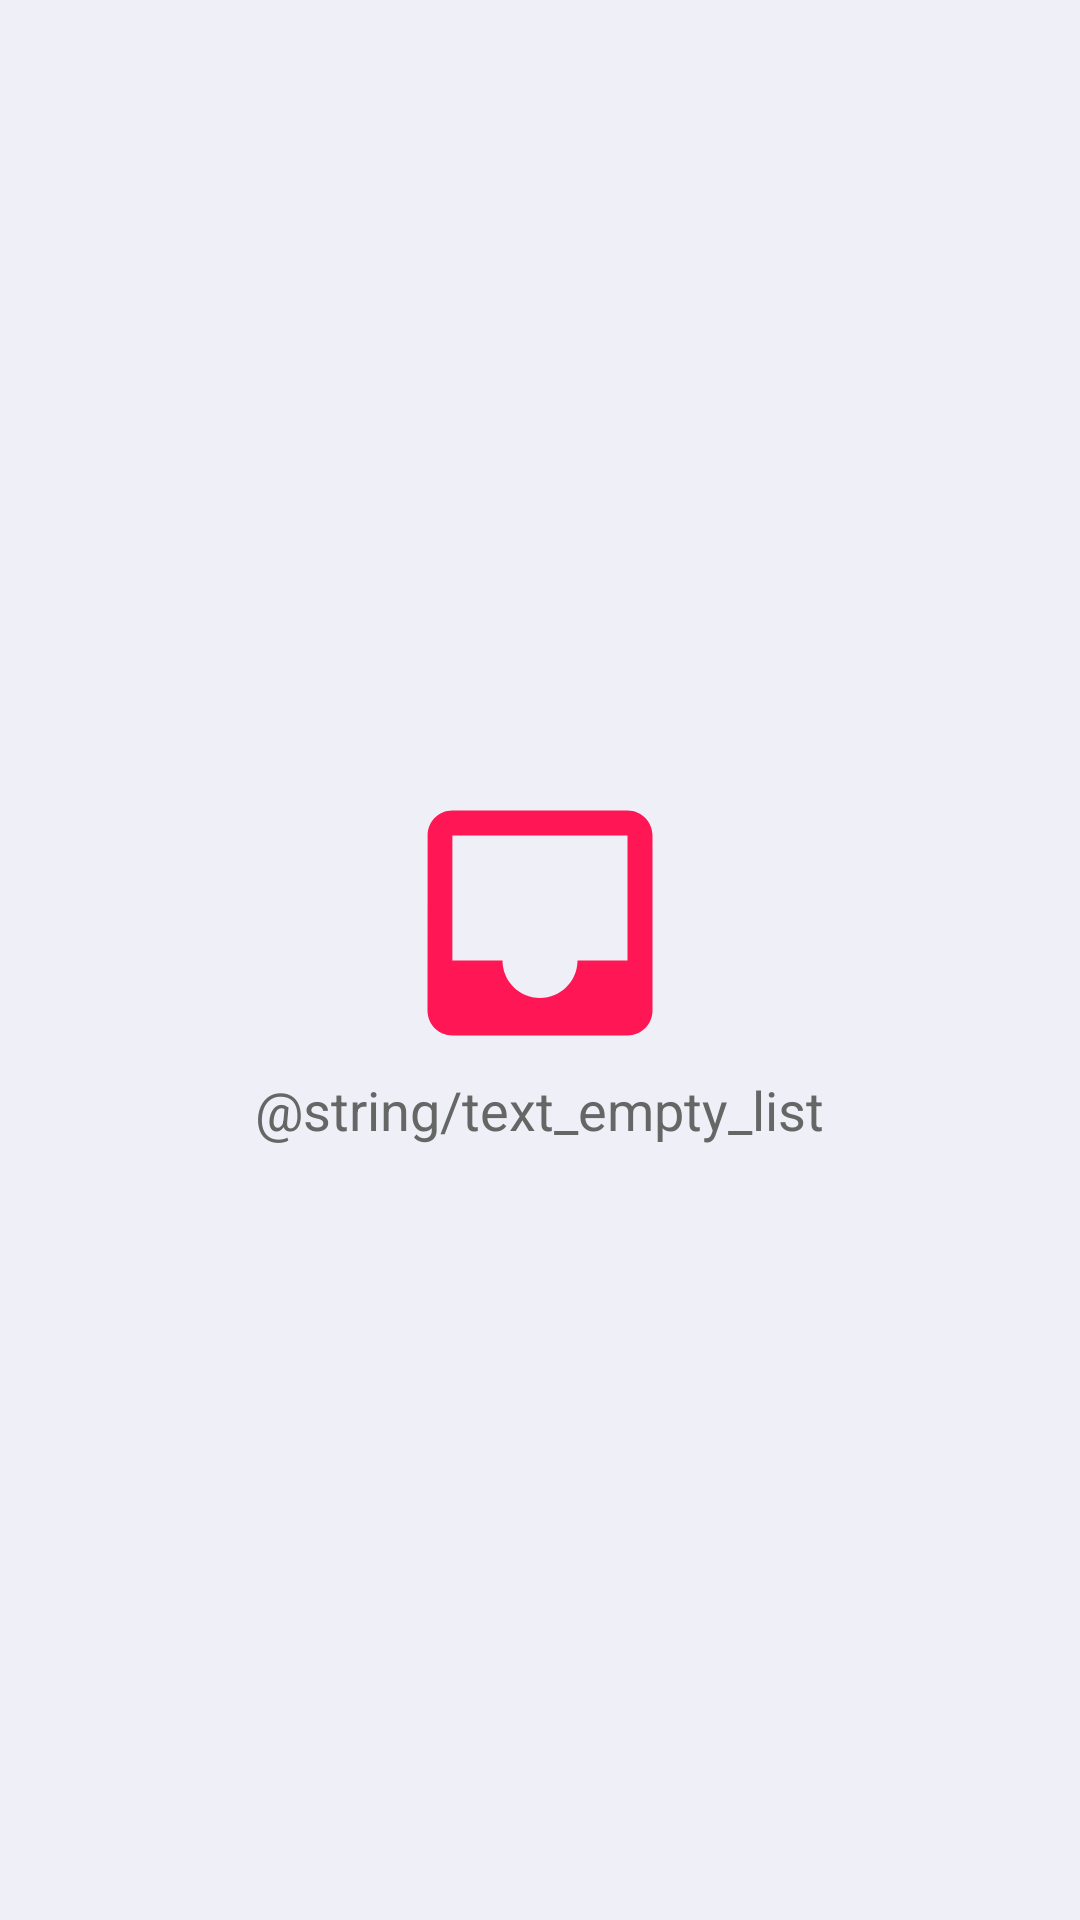

Point at icon controls on the screen. Image size 1080x1920, points as [x,y].
inbox: [540,923]
